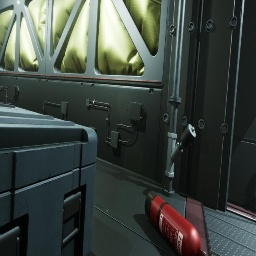FireAlarm ,: (254, 24, 256, 41)
FireExtinguisher ]: (145, 191, 207, 256)
